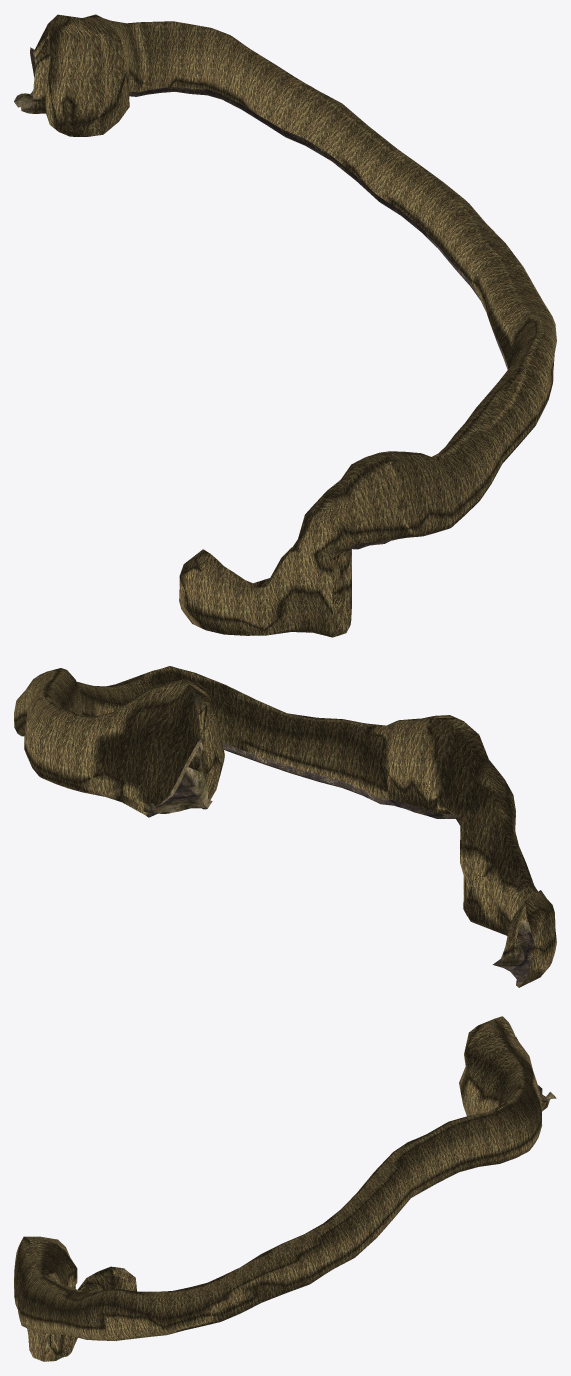
3 renders of one model, top to bottom at view 1: azimuth 30°, elevation 25°; view 2: azimuth 150°, elevation 25°; view 3: azimuth 270°, elevation 25°, orthographic. The views are drawn at different scales.
Parts seen in each view (by area): view 1: mesh2, mesh3; view 2: mesh2, mesh3, mesh1; view 3: mesh2.
Part boxes in pixels (x1,y1,x2,y2): mesh2: (33,14,556,637); mesh3: (129,86,508,549); mesh2: (14,666,556,987); mesh3: (22,733,533,987); mesh1: (143,692,530,987); mesh2: (14,1016,549,1361).
Size of the model in its own units: 37.85 by 37.98 by 54.16.
